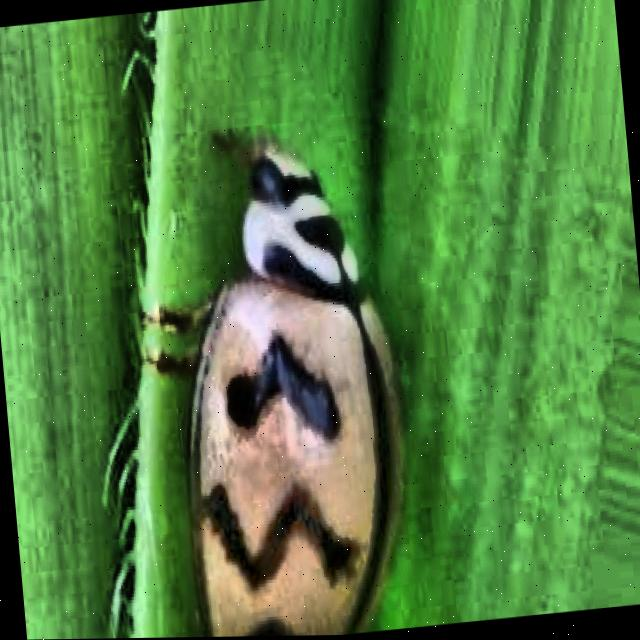Asian-Lady-beetle: (0, 59, 533, 640)
